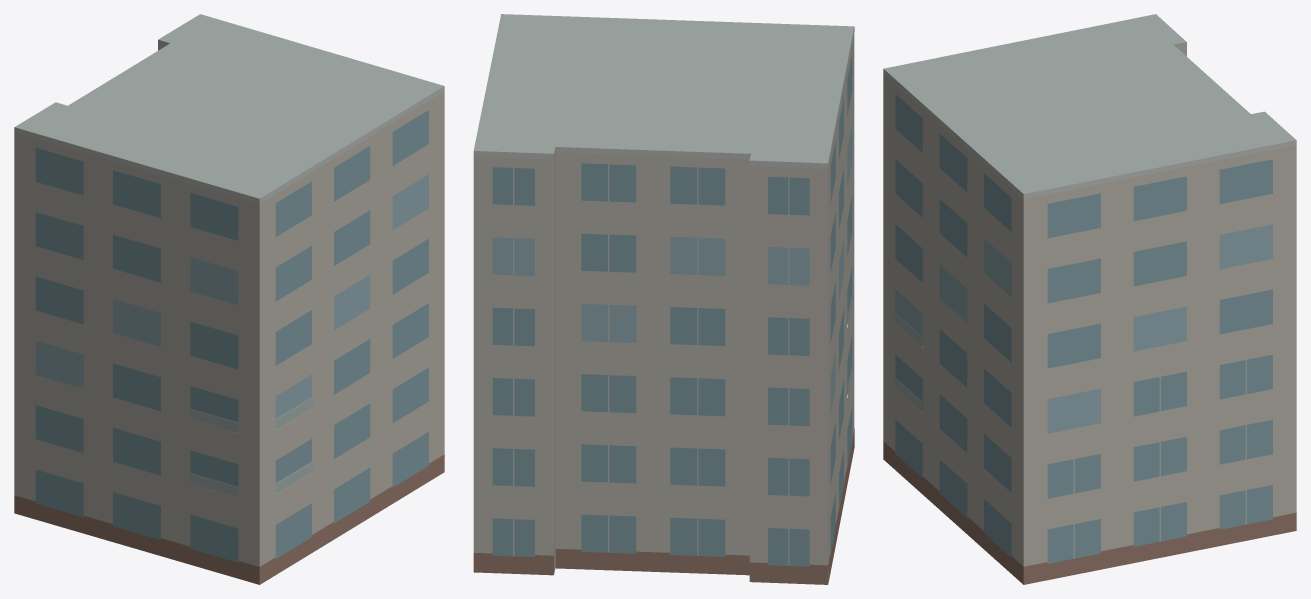
File: survey-upis-32746438.glb
3 views of the same model, side by side, from view 1: azimuth 30°, elevation 25°; view 2: azimuth 150°, elevation 25°; view 3: azimuth 270°, elevation 25° (orthographic). The views are drawn at different scales.
Parts seen in each view (by area): view 1: survey-upis-32746438.tmp; view 2: survey-upis-32746438.tmp; view 3: survey-upis-32746438.tmp.
Boxes of the visible parts, x1,y1,x2,y2 form: survey-upis-32746438.tmp: [14, 14, 444, 584]; survey-upis-32746438.tmp: [473, 14, 854, 584]; survey-upis-32746438.tmp: [883, 14, 1296, 584].
Size of the model in its own units: 18.31 by 18.5 by 17.74.
